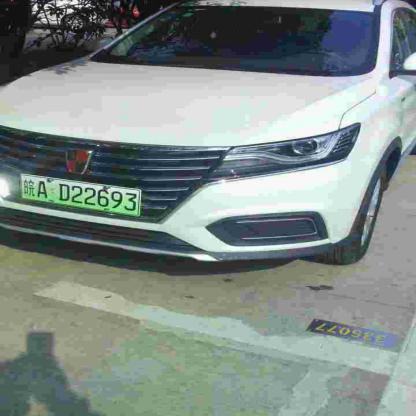lp: (21, 174, 138, 215)
